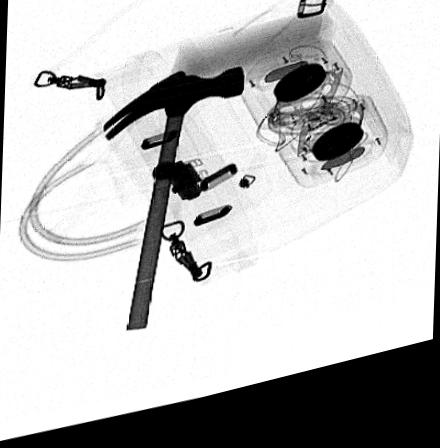Hammer: (102, 78, 245, 337)
